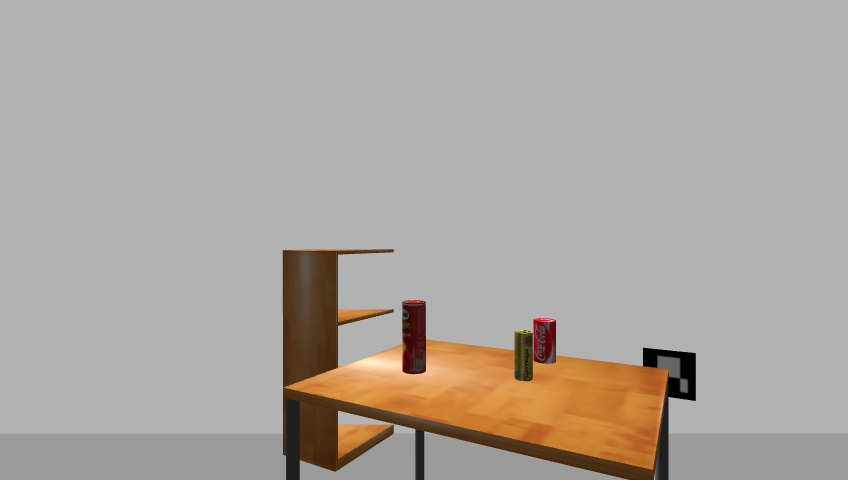aruco marker: (638, 346, 702, 404)
biscuits pack: (513, 330, 533, 382)
bookshelf: (278, 245, 399, 480)
coke can: (532, 317, 557, 365)
dinner table: (279, 340, 676, 479)
pringles can: (399, 301, 428, 376)
